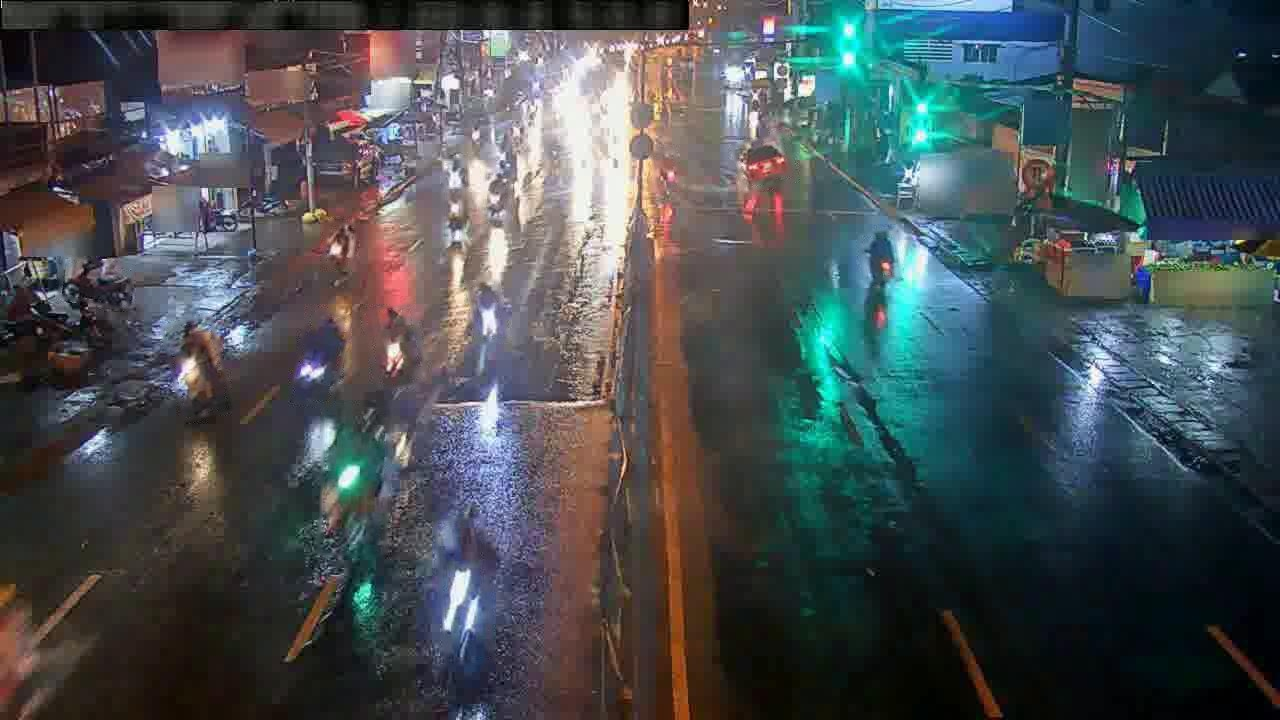Car: (739, 141, 787, 189)
Motorcyclist: (321, 397, 386, 548), (441, 506, 494, 666), (175, 322, 228, 417), (293, 316, 345, 400), (62, 259, 132, 307), (379, 308, 421, 386), (472, 282, 504, 340), (865, 231, 896, 283), (487, 170, 509, 223), (327, 224, 354, 266), (445, 189, 466, 242), (654, 153, 678, 191), (444, 157, 467, 189)
